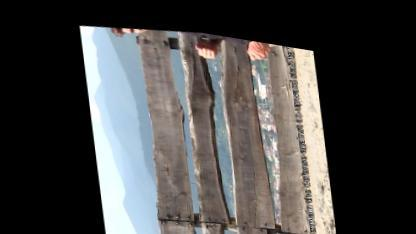knife: (245, 225, 277, 233)
